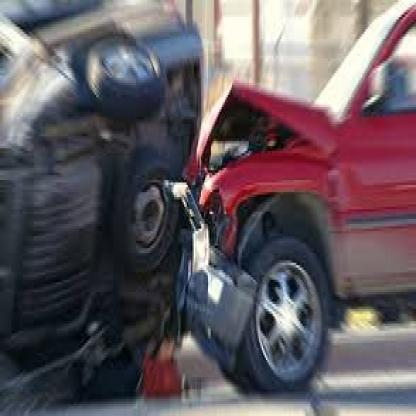accident: (3, 3, 416, 406)
